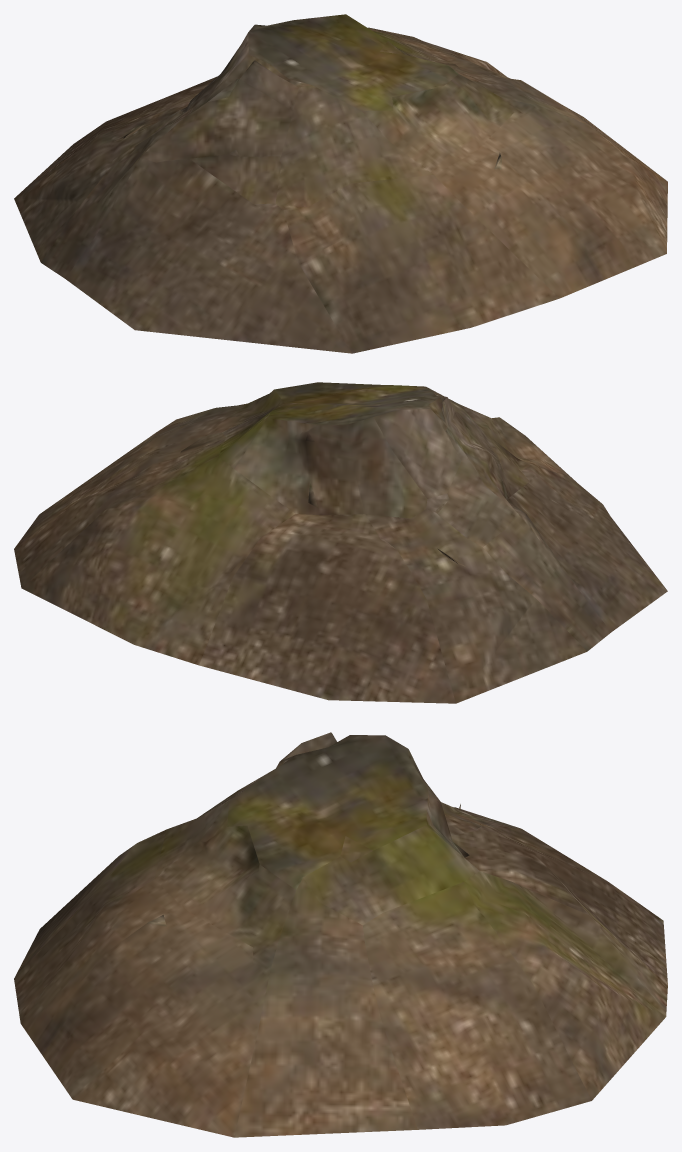
3 renders of one model, top to bottom at view 1: azimuth 30°, elevation 25°; view 2: azimuth 150°, elevation 25°; view 3: azimuth 270°, elevation 25°, orthographic. The views are drawn at different scales.
Visible parts, largest first — view 1: tree_stump_02_lod2; view 2: tree_stump_02_lod2; view 3: tree_stump_02_lod2.
Part boxes in pixels (x1,y1,x2,y2): tree_stump_02_lod2: [14, 14, 667, 353]; tree_stump_02_lod2: [14, 382, 667, 703]; tree_stump_02_lod2: [14, 732, 667, 1137].
Size of the model in its own units: 1.51 by 0.5155 by 1.38.
Materials: 1 (1 with a texture image).
